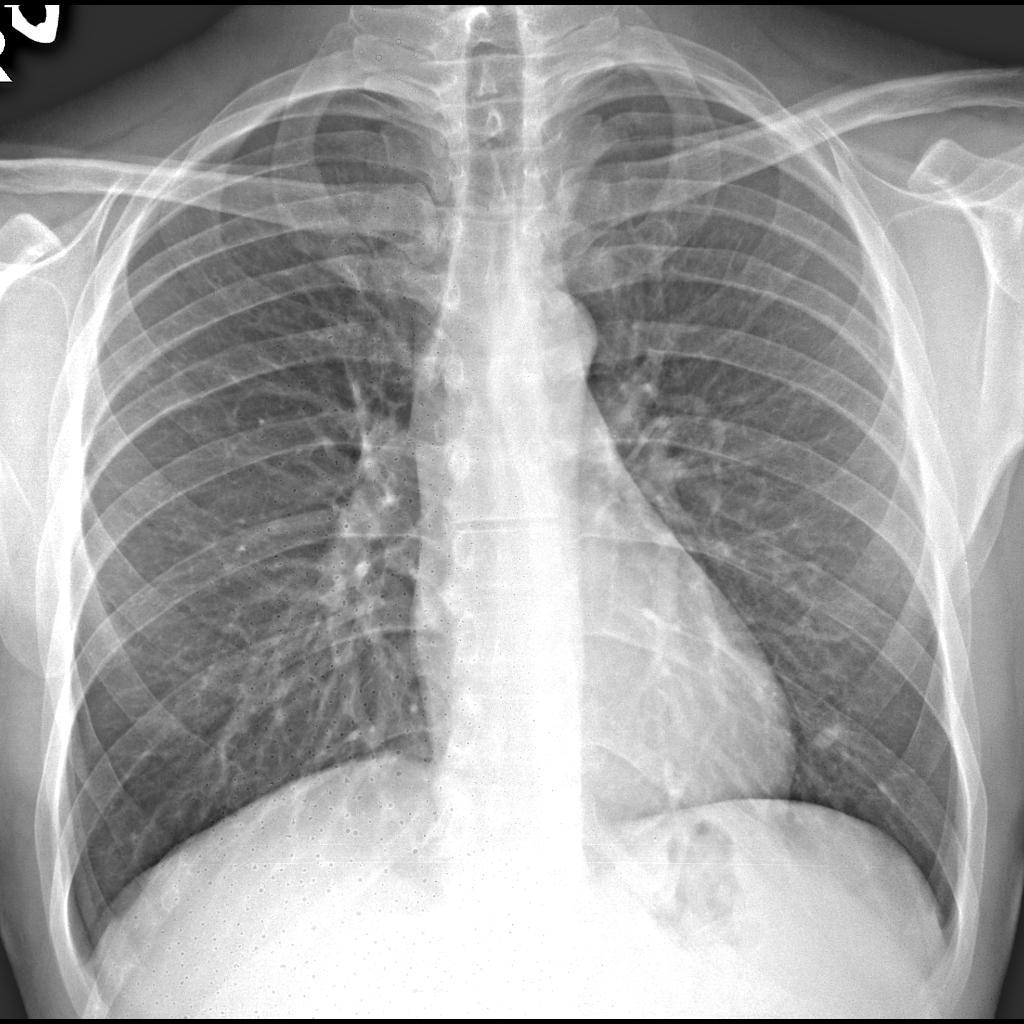Nodule: (789, 691, 847, 760)
